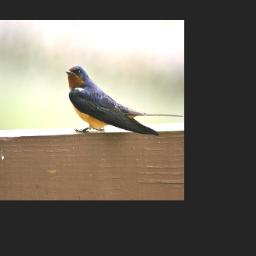Swallow: (65, 63, 183, 136)
